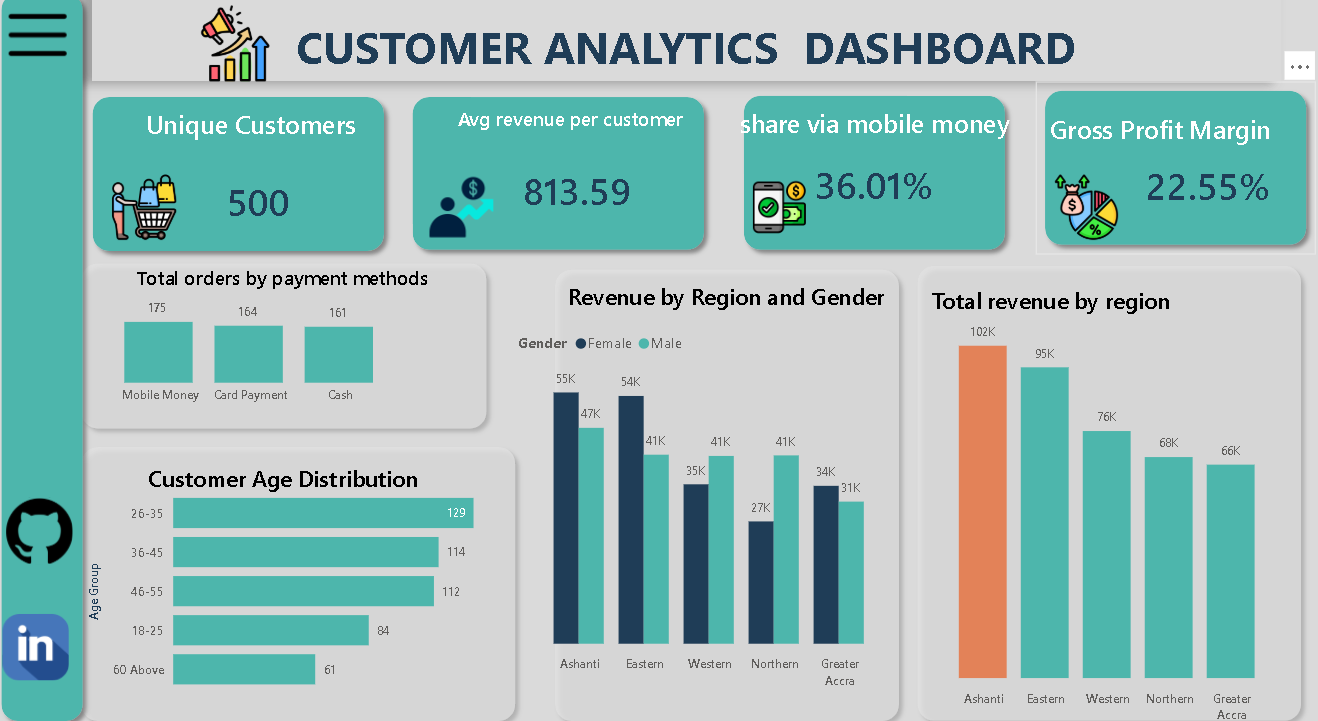

The page's visual inventory and layout, read from the dashboard file:
{"tool":"powerbi","page":{"name":"Customer Analytics","canvas":[1280,720],"ordinal":1},"visuals":[{"type":"shape","box":[883.7,263.5,388.1,457],"z":0},{"type":"actionButton","title":"githud","box":[9.8,490.7,72.4,73.6],"z":0,"group":"g1"},{"type":"shape","box":[77.2,260.6,409,177.3],"z":1000},{"type":"actionButton","title":"LinkIn","box":[6.2,602.9,72.4,73.6],"z":1000,"group":"g1"},{"type":"actionButton","title":"Menu","box":[11.7,8.7,64,82.1],"z":2000,"group":"g1"},{"type":"shape","box":[77.2,437.9,436.7,282.3],"z":2000},{"type":"shape","box":[717,98.9,270,166.5],"z":3000},{"type":"shape","box":[88.1,100.1,299.2,166.5],"z":4000},{"type":"shape","box":[396.9,100.1,299.2,165.3],"z":5000},{"type":"textbox","box":[427.1,94.1,263,63.9],"z":6000},{"type":"textbox","box":[129.1,95.3,241.3,63.9],"z":7000},{"type":"card","fields":{"Values":["Customer_Data.Unique Customers"]},"box":[182.2,174.9,149.6,71.2],"z":8000},{"type":"image","box":[733.5,183.4,53.1,63.9],"z":9000},{"type":"barChart","fields":{"Category":["Customer_Data.Age Group"],"Y":["Customer_Data.Unique Customers"]},"box":[88.1,468.1,407.8,229.2],"z":10000},{"type":"columnChart","fields":{"Category":["Sales.Payment_Method"],"Y":["Sales.Payment Count"]},"box":[88.1,292,323.3,123.1],"z":11000},{"type":"columnChart","fields":{"Y":["Sales.Total Revenue"],"Category":["Customer_Data.Region"]},"box":[895.8,310.7,353,409.8],"z":12000},{"type":"textbox","box":[96.5,8.4,1147.3,85.7],"z":13000},{"type":"card","fields":{"Values":["Customer_Data.Avg Revenue per Customer"]},"box":[489.8,164.1,149.6,71.2],"z":14000},{"type":"image","box":[94.1,183.4,105,63.9],"z":15000},{"type":"shape","box":[1007.4,94.1,270,166.5],"z":16000},{"type":"card","fields":{"Values":["Sales.Mobile Money Revenue %"]},"box":[776.9,158,149.6,71.2],"z":17000},{"type":"textbox","box":[716.6,94.1,270.2,63.9],"z":18000},{"type":"card","fields":{"Values":["Sales.Gross Profit Margin"]},"box":[1099.1,159.3,149.6,71.2],"z":19000},{"type":"textbox","box":[1007.4,100.1,241.3,63.9],"z":20000},{"type":"image","box":[1024.3,183.4,63.9,63.9],"z":21000},{"type":"textbox","box":[94.1,437.9,374,60.3],"z":22000},{"type":"textbox","box":[118.2,247.3,324.5,60.3],"z":23000},{"type":"textbox","box":[776.9,266.6,491,60.3],"z":24000},{"type":"shape","box":[534.5,266.6,349.9,453.6],"z":25000},{"type":"image","box":[155.6,20.5,158,73.6],"z":26000},{"type":"clusteredColumnChart","fields":{"Category":["Customer_Data.Region"],"Series":["Customer_Data.Gender"],"Y":["Sales.Total Revenue"]},"box":[503.1,326.9,370.4,360.7],"z":27000},{"type":"textbox","box":[463.3,263,491,60.3],"z":28000},{"type":"image","box":[422.3,183.4,61.5,63.9],"z":29000},{"type":"shape","title":"Container","box":[0,0,96.5,720.2],"z":30000},{"type":"group","id":"g1","title":"Menu bar","box":[6.2,8.7,75.7,667.8],"z":36000}]}

Visuals, with their boxes in screenshot pixels (x1, y1, x2, y2), scaled from the page's 1280x720 canvas onto the 1318x721 screenshot:
shape: x1=910 y1=264 x2=1310 y2=720
"githud" actionButton: x1=10 y1=491 x2=85 y2=565
shape: x1=79 y1=261 x2=501 y2=439
"LinkIn" actionButton: x1=6 y1=604 x2=81 y2=677
"Menu" actionButton: x1=12 y1=9 x2=78 y2=91
shape: x1=79 y1=439 x2=529 y2=720
shape: x1=738 y1=99 x2=1016 y2=266
shape: x1=91 y1=100 x2=399 y2=267
shape: x1=409 y1=100 x2=717 y2=266
textbox: x1=440 y1=94 x2=711 y2=158
textbox: x1=133 y1=95 x2=381 y2=159
card - Customer_Data.Unique Customers: x1=188 y1=175 x2=342 y2=246
image: x1=755 y1=184 x2=810 y2=248
barChart - Customer_Data.Age Group x Customer_Data.Unique Customers: x1=91 y1=469 x2=511 y2=698
columnChart - Sales.Payment_Method x Sales.Payment Count: x1=91 y1=292 x2=424 y2=416
columnChart - Sales.Total Revenue x Customer_Data.Region: x1=922 y1=311 x2=1286 y2=720
textbox: x1=99 y1=8 x2=1281 y2=94
card - Customer_Data.Avg Revenue per Customer: x1=504 y1=164 x2=658 y2=236
image: x1=97 y1=184 x2=205 y2=248
shape: x1=1037 y1=94 x2=1315 y2=261
card - Sales.Mobile Money Revenue %: x1=800 y1=158 x2=954 y2=230
textbox: x1=738 y1=94 x2=1016 y2=158
card - Sales.Gross Profit Margin: x1=1132 y1=160 x2=1286 y2=231
textbox: x1=1037 y1=100 x2=1286 y2=164
image: x1=1055 y1=184 x2=1121 y2=248
textbox: x1=97 y1=439 x2=482 y2=499
textbox: x1=122 y1=248 x2=456 y2=308
textbox: x1=800 y1=267 x2=1306 y2=327
shape: x1=550 y1=267 x2=911 y2=720
image: x1=160 y1=21 x2=323 y2=94
clusteredColumnChart - Customer_Data.Region x Customer_Data.Gender: x1=518 y1=327 x2=899 y2=689
textbox: x1=477 y1=263 x2=983 y2=324
image: x1=435 y1=184 x2=498 y2=248
"Container" shape: x1=0 y1=0 x2=99 y2=720
"Menu bar" group: x1=6 y1=9 x2=84 y2=677
